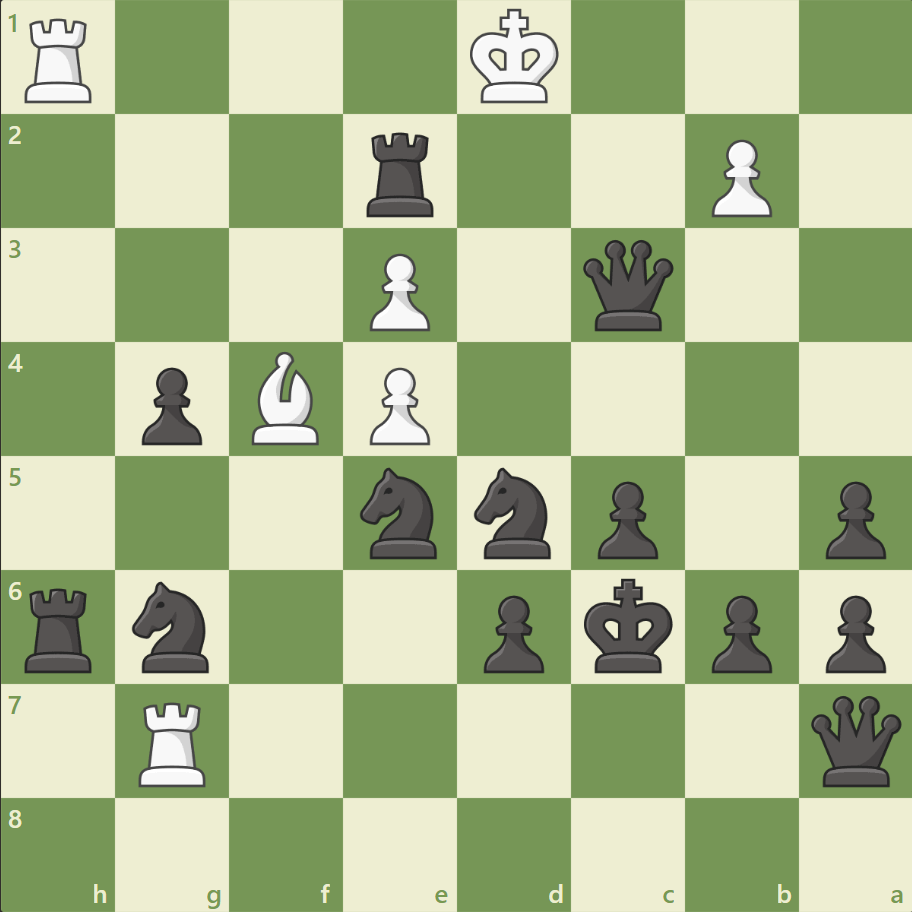B: (244, 347, 328, 449)
K: (465, 4, 565, 112)
P: (701, 132, 776, 223), (361, 359, 435, 450), (361, 246, 435, 337)
R: (19, 12, 102, 109), (133, 693, 215, 790)
k: (579, 571, 679, 679)
n: (351, 461, 449, 564), (124, 575, 222, 677), (465, 461, 562, 564)
p: (701, 586, 776, 677), (474, 586, 549, 677), (133, 359, 208, 450), (815, 586, 889, 677), (815, 473, 889, 564), (588, 473, 662, 564)
q: (805, 690, 904, 789), (578, 236, 677, 335)
r: (19, 579, 102, 676), (360, 125, 442, 222)
